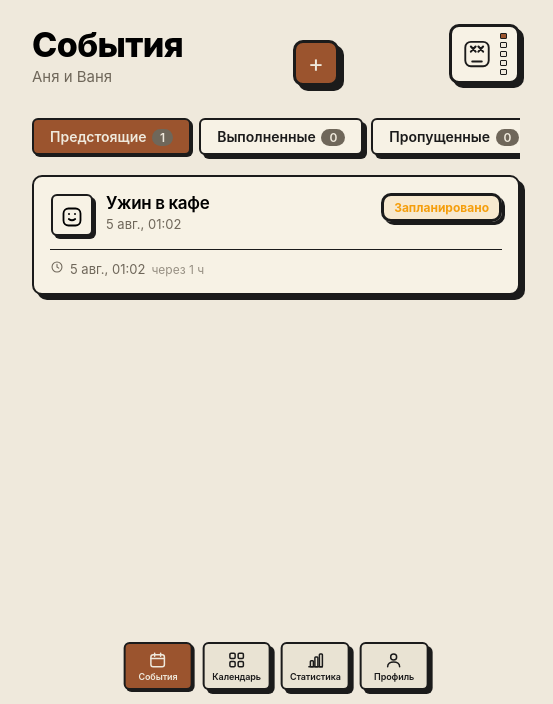
Test: App › shows task detail on click
What coordinates should you click on to do the following:
click the heading "Ужин в кафе"
I would click on:
 (158, 203)
Its box is [106,193,209,213].
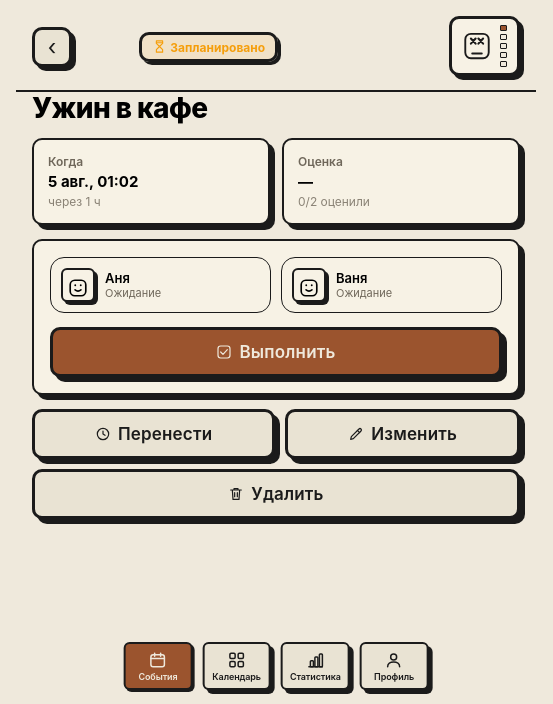
Result: the button "Выполнить" is shown at [50,327,502,377]
